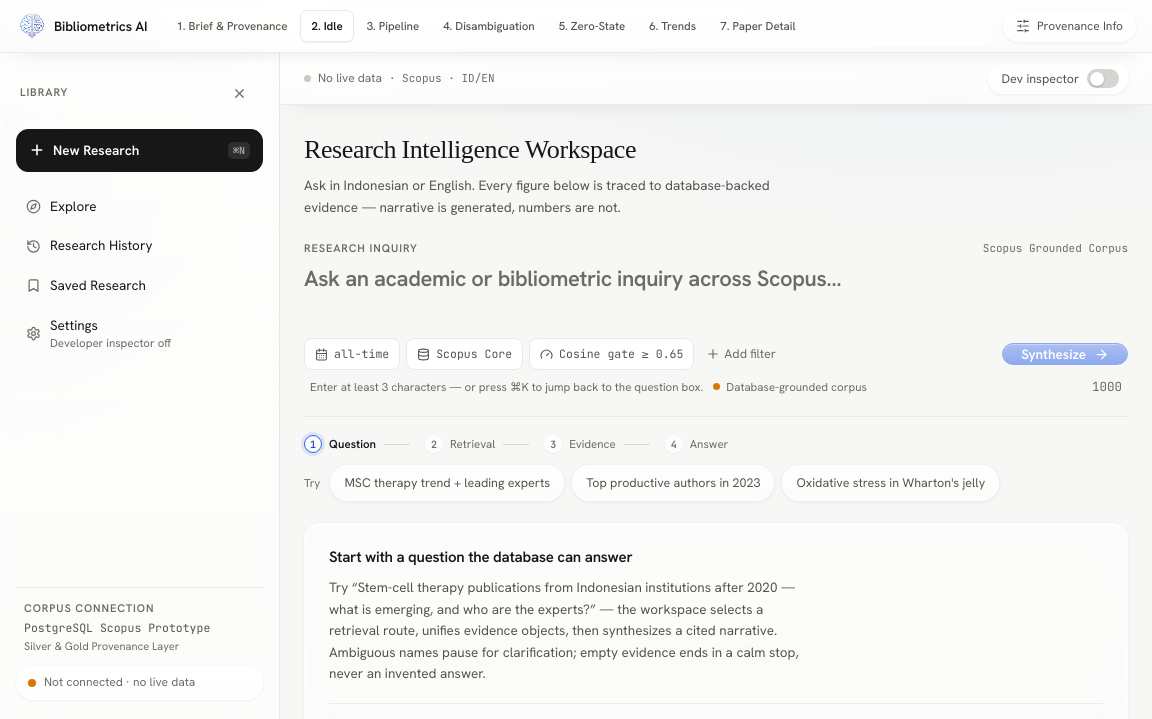
Test case: P0-A: a valid empty result stays an empty result › not_found does not leak fixture data into the Trends view
The width and height of the screenshot is (1152, 719).
In the text box named "research question": {"x": 716, "y": 293} [304, 265, 1128, 321], type "MSC therapy trend in Indonesia after 2020?"
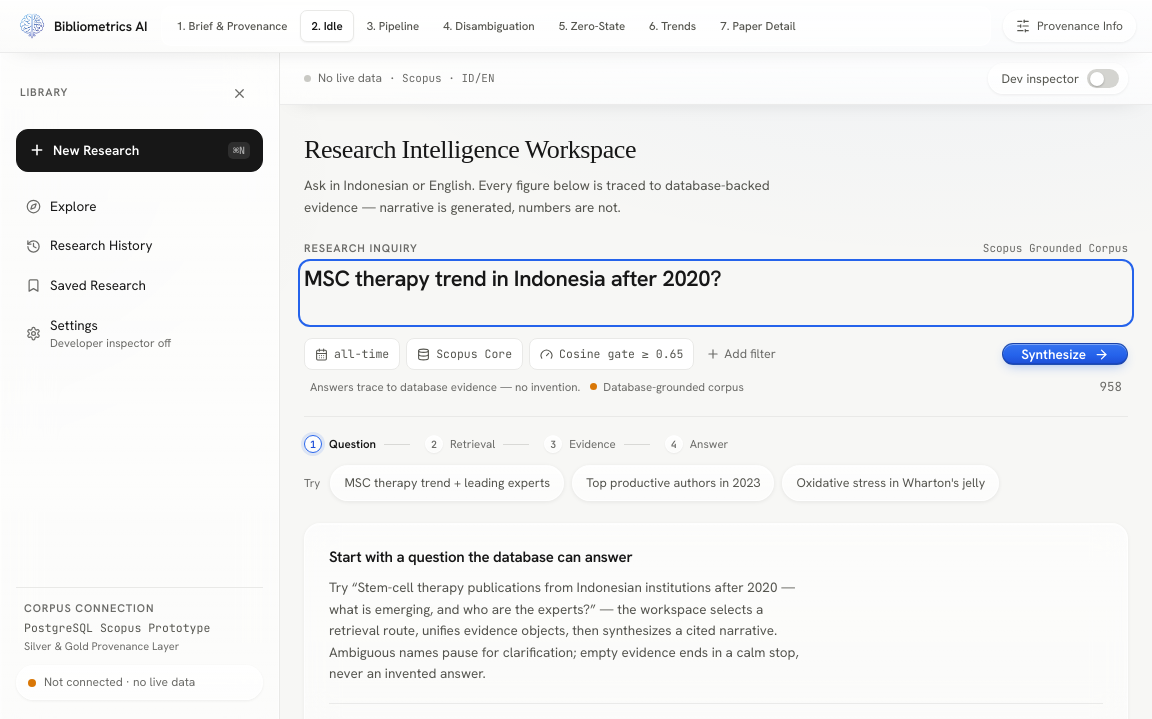
Click the button "Synthesize": {"x": 1065, "y": 354} [1002, 342, 1128, 365]
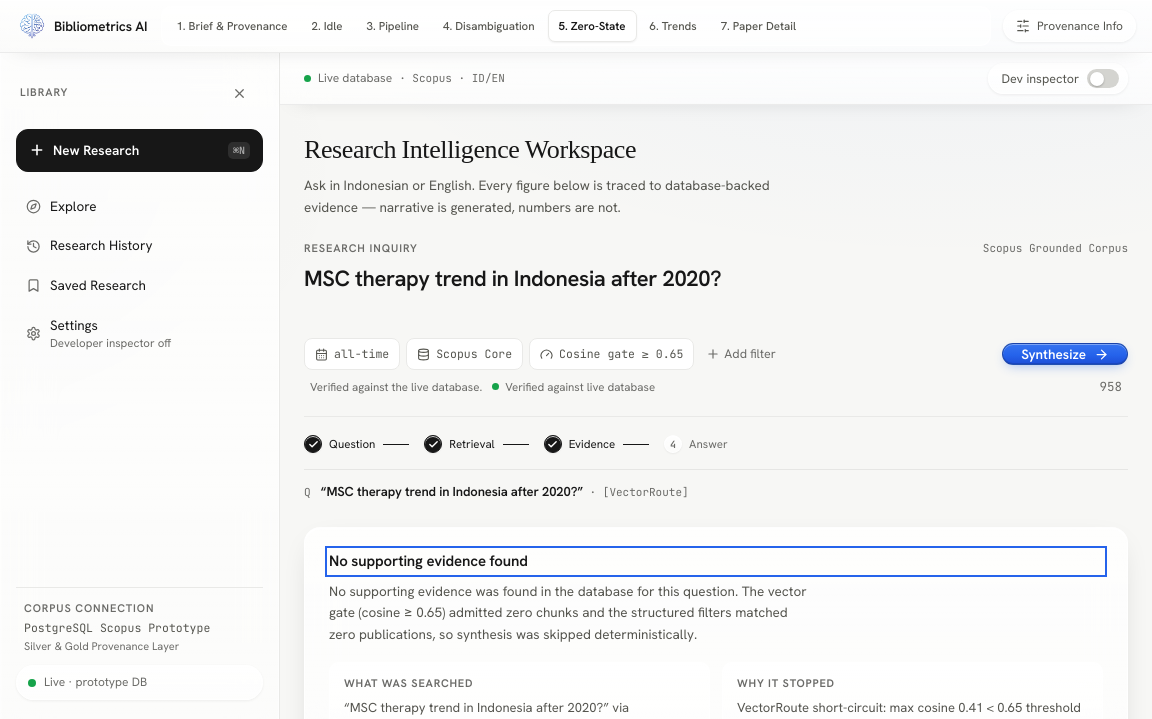
Result: the heading "No supporting evidence found" is shown at [329, 550, 528, 570]
Click the button "6. Trends": {"x": 673, "y": 26} [639, 10, 708, 42]
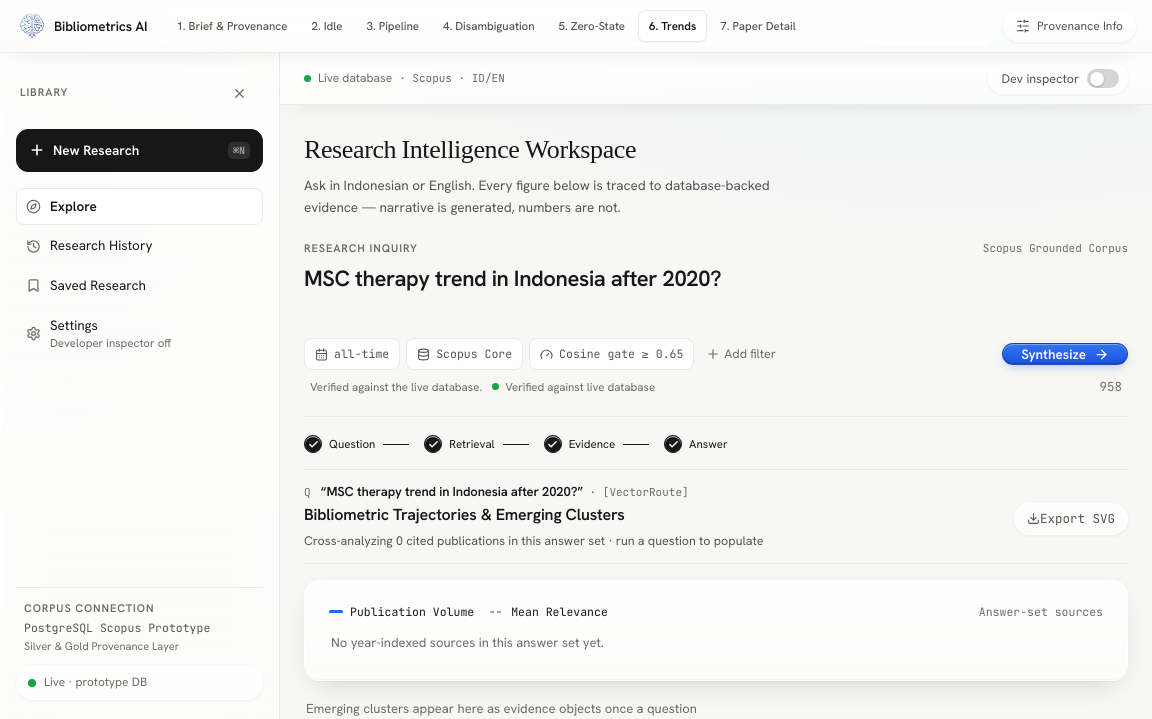
Result: the heading "Bibliometric Trajectories & Emerging Clusters" is shown at [304, 504, 625, 524]
Result: the text "Cross-analyzing 0 cited publications" is shown at [304, 531, 764, 551]
